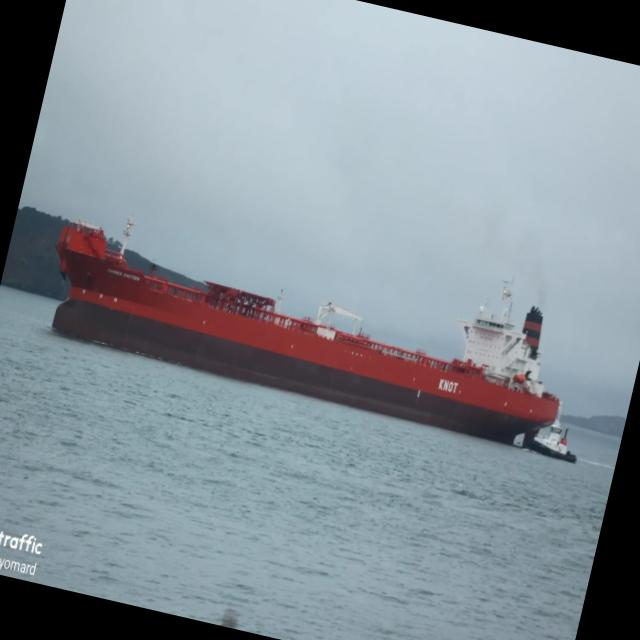Tanker: (52, 218, 559, 443)
Tug: (523, 417, 576, 462)
